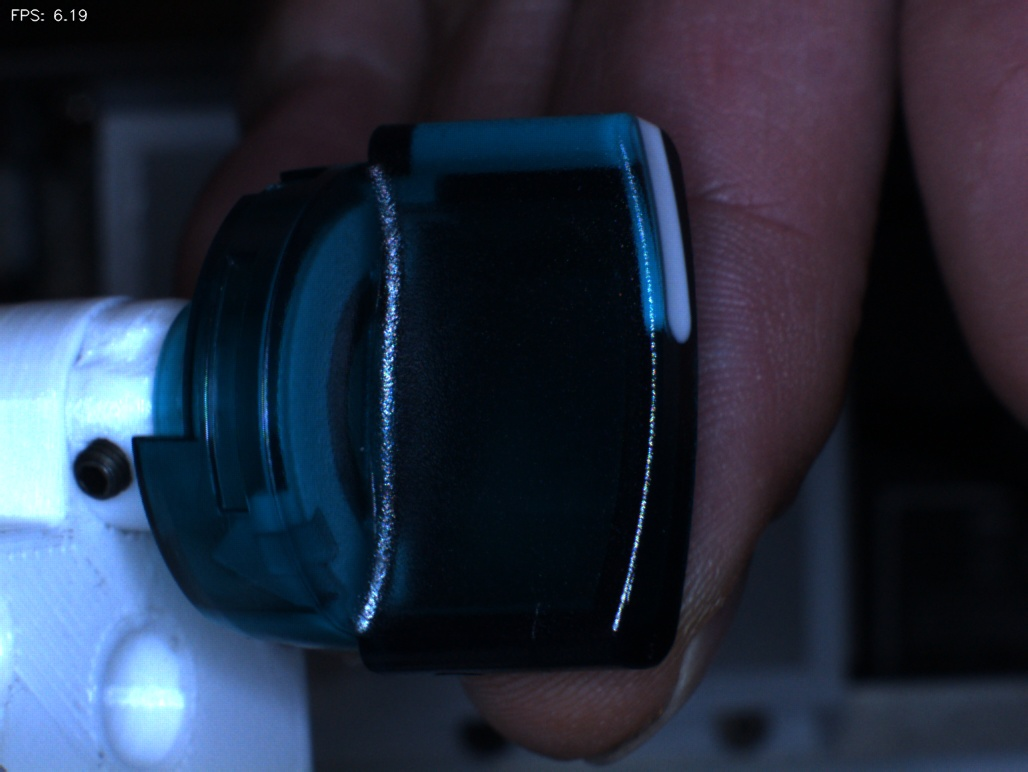Givrage: (517, 574, 574, 655)
